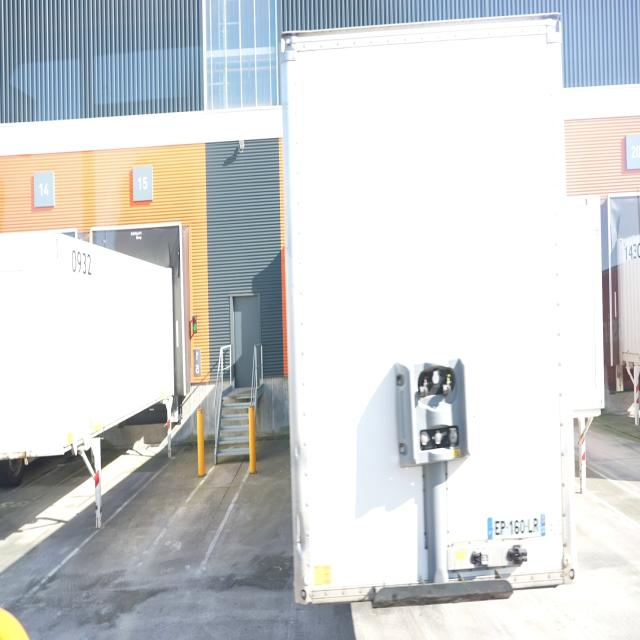Code: (66, 240, 97, 282)
